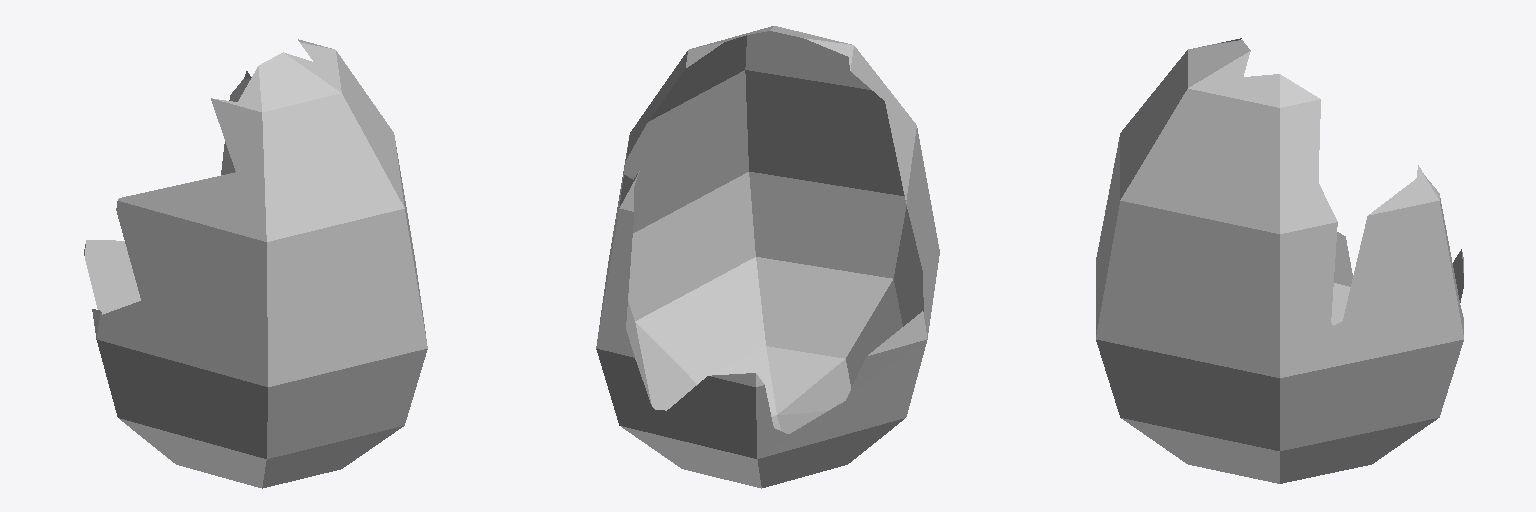
File: egghatched1.obj
3 views of the same model, side by side, from view 1: azimuth 30°, elevation 25°; view 2: azimuth 150°, elevation 25°; view 3: azimuth 270°, elevation 25° (orthographic).
Parts seen in each view (by area): view 1: Object.1; view 2: Object.1; view 3: Object.1.
Part boxes in pixels (bbox=[...]): Object.1: bbox=[84, 39, 427, 488]; Object.1: bbox=[596, 26, 939, 488]; Object.1: bbox=[1096, 38, 1463, 483].
Size of the model in its own units: 1 by 1.27 by 1.